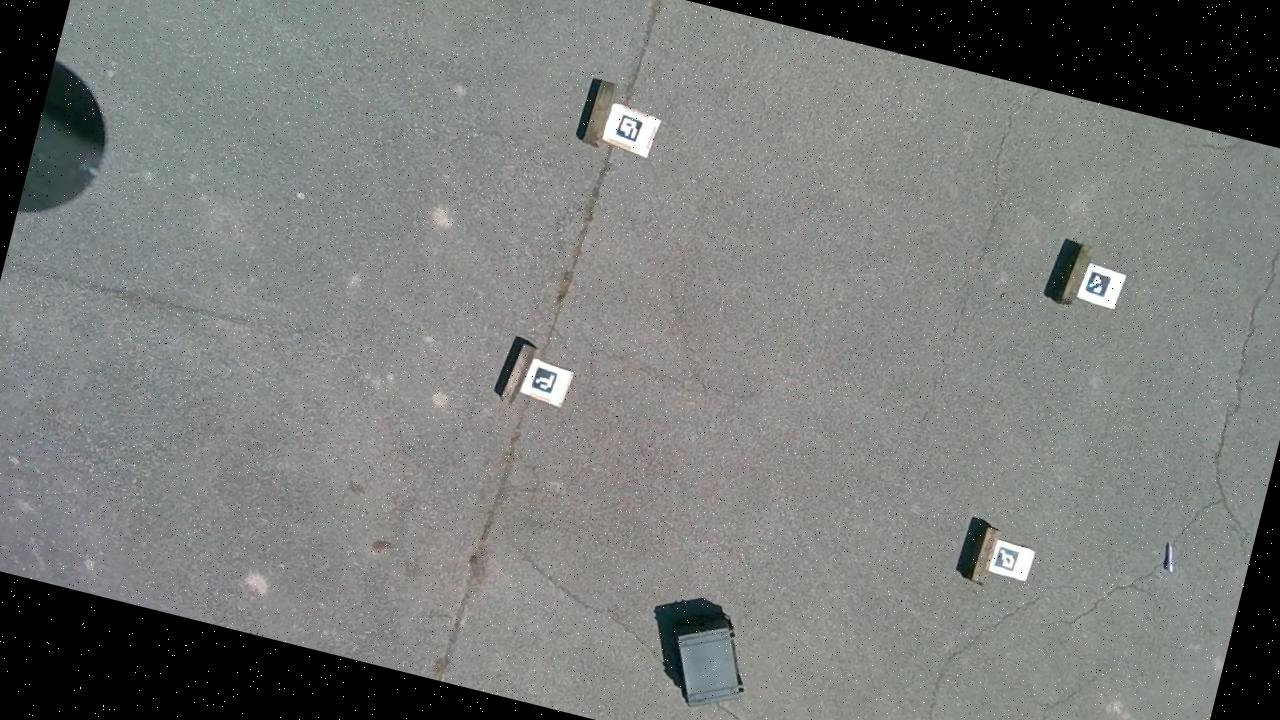probes: (1162, 542, 1180, 572)
rako: (659, 604, 760, 716)
